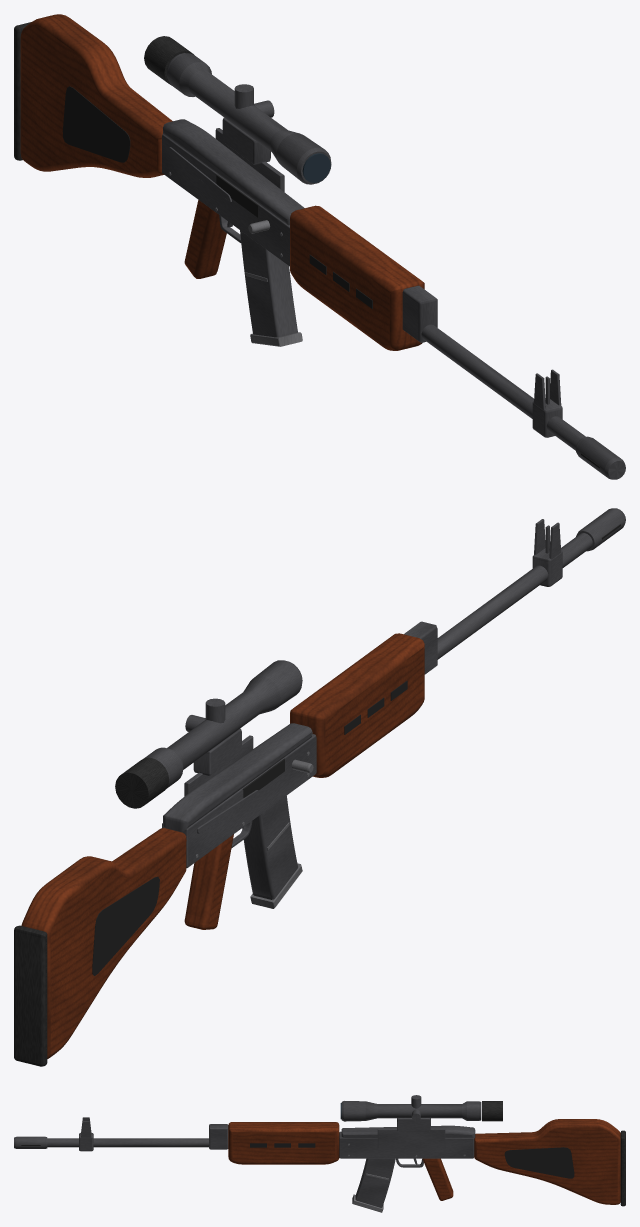
File: svd.glb
The picture shows the model from 3 angles, top to bottom: view 1: azimuth 30°, elevation 25°; view 2: azimuth 150°, elevation 25°; view 3: azimuth 270°, elevation 25°; orthographic projection. The views are drawn at different scales.
Parts seen in each view (by area): view 1: model; view 2: model; view 3: model.
Boxes of the visible parts, x1,y1,x2,y2 form: model: [14, 14, 625, 479]; model: [14, 508, 625, 1066]; model: [14, 1095, 625, 1212].
Size of the model in its own units: 0.088 by 0.267 by 1.27.
Materials: 6 (4 with a texture image).
